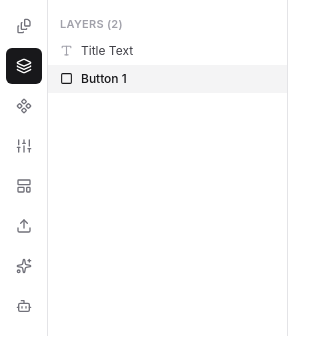
Test case: LOW Post v0.1.0 Audit & QA › LeftSidebar layers tab supports inline rename and layer reordering
Earlier steps of the test are not shown.
Later steps or results of the test are not shown.
Double-click the element with test id "layer-node-n1" at (168, 78), box [48,64,287,92]
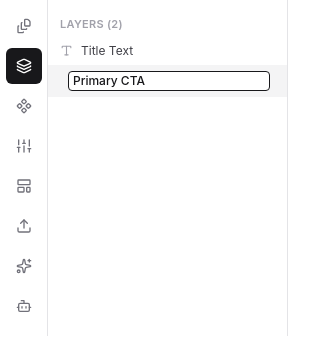
Result: the field with test id "node-rename-input-n1" is shown at [68,70,270,90]
